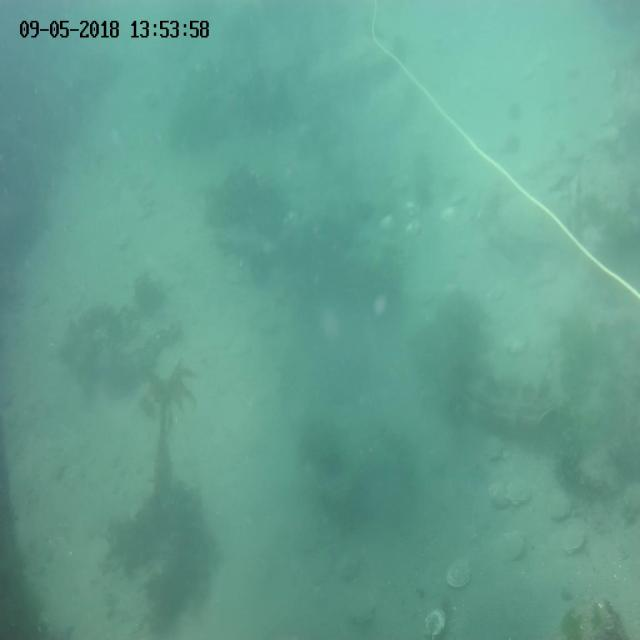scallop: (346, 595, 378, 626), (496, 531, 526, 563), (422, 605, 448, 640), (558, 526, 585, 558), (481, 433, 506, 464), (547, 494, 574, 522), (499, 330, 528, 356), (446, 560, 472, 589), (334, 553, 362, 579), (309, 554, 333, 584), (487, 477, 510, 508), (505, 482, 530, 508), (300, 531, 320, 558), (403, 220, 422, 239), (378, 213, 396, 232), (405, 199, 423, 216), (441, 207, 456, 225)
